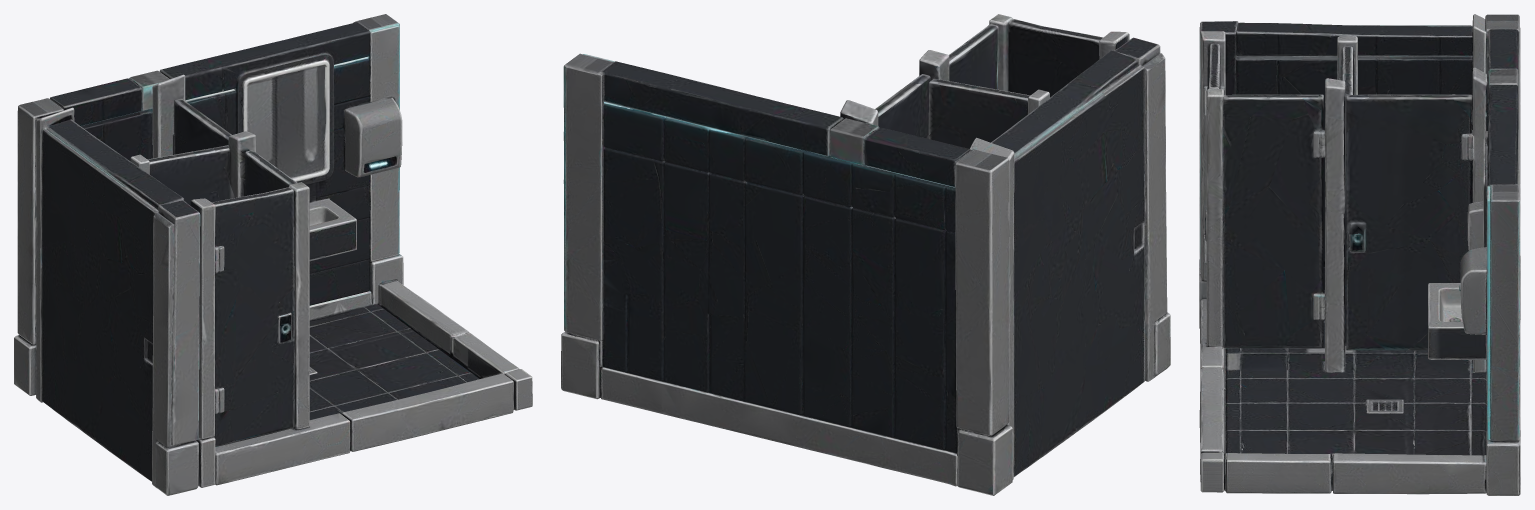
File: wc_upgraded_opt.glb
3 renders of one model, left to right at view 1: azimuth 30°, elevation 25°; view 2: azimuth 150°, elevation 25°; view 3: azimuth 270°, elevation 25°, orthographic. The views are drawn at different scales.
Size of the model in its own units: 1.9 by 1.42 by 1.35.
Materials: 1 (1 with a texture image).
